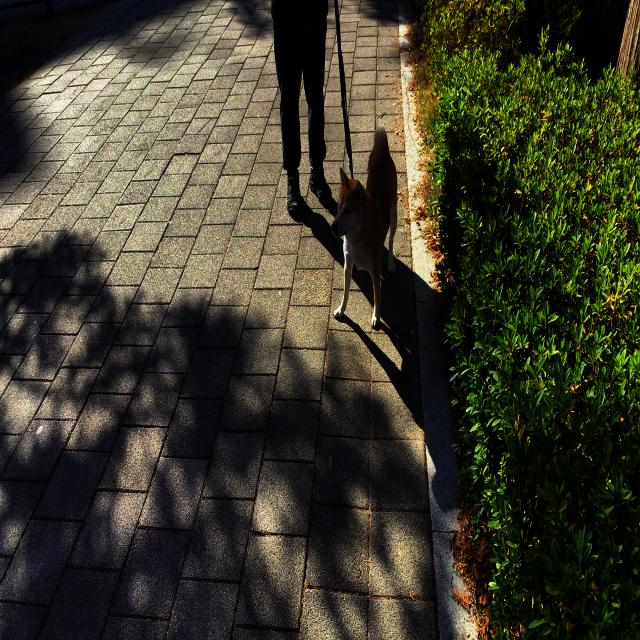Leashed_Dog: (301, 0, 398, 329)
